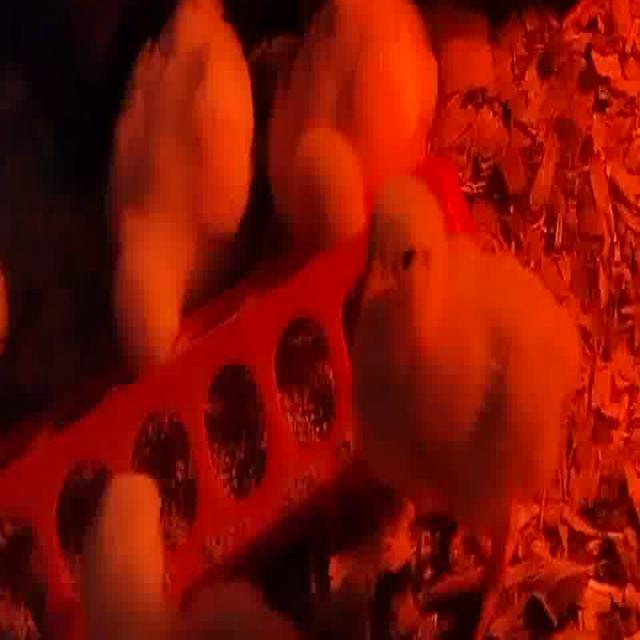poussin: (357, 192, 604, 632), (91, 0, 270, 382), (255, 0, 444, 278), (74, 472, 193, 640)
